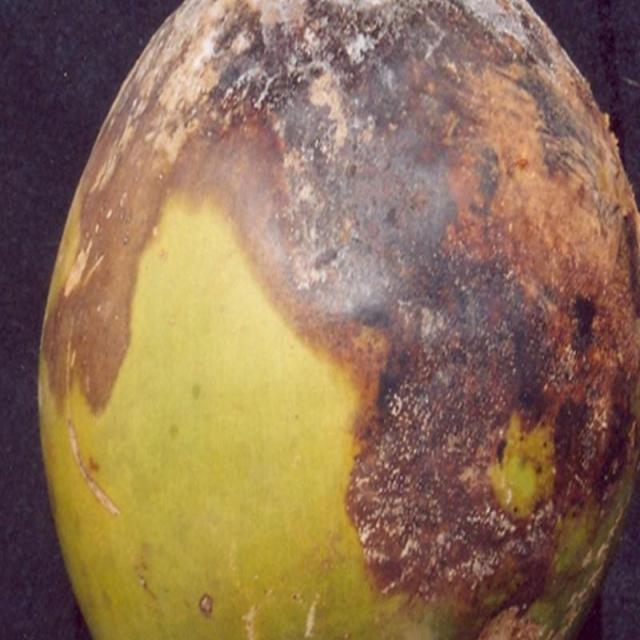damaged: (36, 0, 639, 639)
